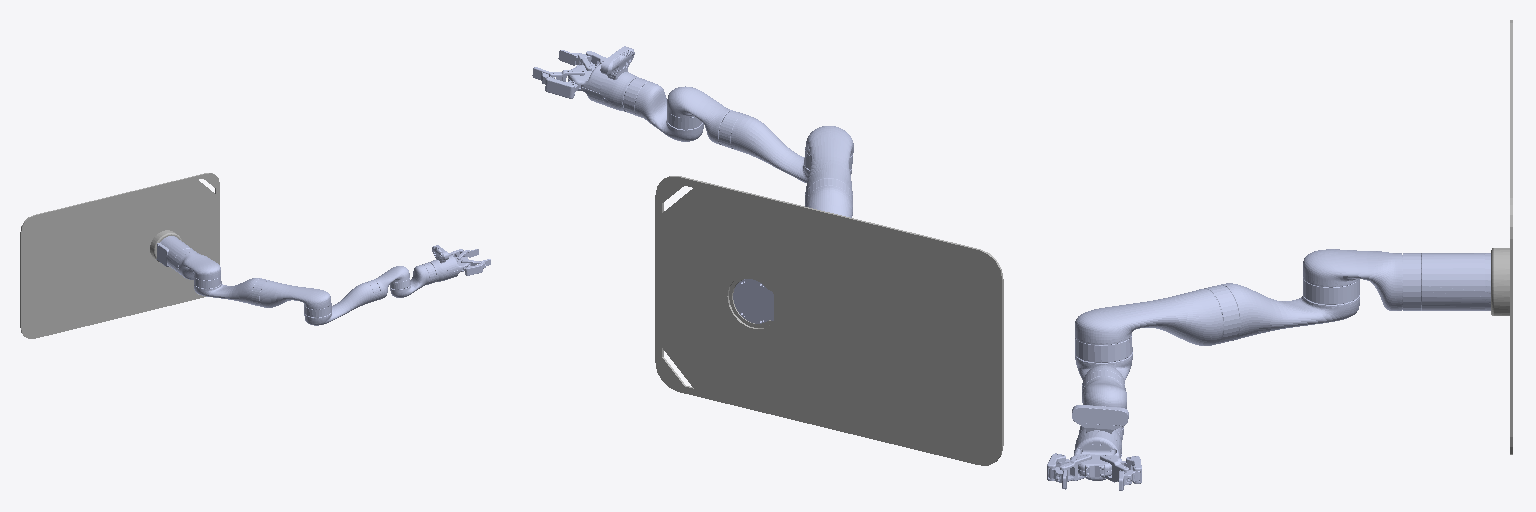
URDF robot description (Assembled moble robot fold5):
<?xml version="1.0" encoding="utf-8"?>
<!-- This URDF was automatically created by SolidWorks to URDF Exporter! Originally created by [author] ([email redacted]) 
     Commit Version: 1.6.0-1-g15f4949  Build Version: 1.6.7594.29634
     For more information, please see http://wiki.ros.org/sw_urdf_exporter -->
<robot
  name="Assembled moble robot fold5">
  <link
    name="base_link">
    <inertial>
      <origin
        xyz="-0.162274145504602 0.000732596929480435 0.001049653115971"
        rpy="0 0 0" />
      <mass
        value="0.0127857677607466" />
      <inertia
        ixx="3.63604584881777E-08"
        ixy="3.85340554226154E-08"
        ixz="7.28173735493206E-08"
        iyy="0.000309820066608132"
        iyz="8.24134140601345E-10"
        izz="0.000309785126309396" />
    </inertial>
    <visual>
      <origin
        xyz="0 0 0"
        rpy="0 0 0" />
      <geometry>
        <mesh
          filename="package://Assembled moble robot fold5/meshes/base_link.STL" />
      </geometry>
      <material
        name="">
        <color
          rgba="0.250980392156863 0.250980392156863 0.250980392156863 1" />
      </material>
    </visual>
    <collision>
      <origin
        xyz="0 0 0"
        rpy="0 0 0" />
      <geometry>
        <mesh
          filename="package://Assembled moble robot fold5/meshes/base_link.STL" />
      </geometry>
    </collision>
  </link>
  <link
    name="link_1">
    <inertial>
      <origin
        xyz="0.166453899070633 -0.00442014918653488 0.000187865619513702"
        rpy="0 0 0" />
      <mass
        value="1.71492523147387" />
      <inertia
        ixx="0.0280239638631239"
        ixy="-1.39067589091845E-09"
        ixz="-3.68523528134109E-06"
        iyy="0.105928474299439"
        iyz="-1.01563640135774E-08"
        izz="0.0779224059346215" />
    </inertial>
    <visual>
      <origin
        xyz="0 0 0"
        rpy="0 0 0" />
      <geometry>
        <mesh
          filename="package://Assembled moble robot fold5/meshes/link_1.STL" />
      </geometry>
      <material
        name="">
        <color
          rgba="0.752941176470588 0.752941176470588 0.752941176470588 1" />
      </material>
    </visual>
    <collision>
      <origin
        xyz="0 0 0"
        rpy="0 0 0" />
      <geometry>
        <mesh
          filename="package://Assembled moble robot fold5/meshes/link_1.STL" />
      </geometry>
    </collision>
  </link>
  <joint
    name="joint0"
    type="fixed">
    <origin
      xyz="0 -0.00768880580518062 0"
      rpy="0 7.37265581573058E-05 -3.14159265358979" />
    <parent
      link="base_link" />
    <child
      link="link_1" />
    <axis
      xyz="0 0 0" />
  </joint>
  <link
    name="link_2">
    <inertial>
      <origin
        xyz="-0.080650685224449 0.000129050261299473 0.000707970224130534"
        rpy="0 0 0" />
      <mass
        value="1.06209459731102" />
      <inertia
        ixx="0.0011530401909991"
        ixy="-9.159071968707E-07"
        ixz="2.81420199345777E-05"
        iyy="0.00277990779146556"
        iyz="-6.61222537775314E-07"
        izz="0.00275580362696308" />
    </inertial>
    <visual>
      <origin
        xyz="0 0 0"
        rpy="0 0 0" />
      <geometry>
        <mesh
          filename="package://Assembled moble robot fold5/meshes/link_2.STL" />
      </geometry>
      <material
        name="">
        <color
          rgba="0.792156862745098 0.819607843137255 0.933333333333333 1" />
      </material>
    </visual>
    <collision>
      <origin
        xyz="0 0 0"
        rpy="0 0 0" />
      <geometry>
        <mesh
          filename="package://Assembled moble robot fold5/meshes/link_2.STL" />
      </geometry>
    </collision>
  </link>
  <joint
    name="joint1"
    type="fixed">
    <origin
      xyz="0 0.156999999999959 0"
      rpy="1.60291569695239 0 1.57079632679249" />
    <parent
      link="link_1" />
    <child
      link="link_2" />
    <axis
      xyz="0 0 0" />
  </joint>
  <link
    name="link_3">
    <inertial>
      <origin
        xyz="-0.0437213084092657 -0.0286838263022234 0.025499511902183"
        rpy="0 0 0" />
      <mass
        value="0.205754188132838" />
      <inertia
        ixx="0.000357284886803391"
        ixy="6.30191940150228E-05"
        ixz="0.000106885180043856"
        iyy="0.000625270487788668"
        iyz="-3.58974275356206E-05"
        izz="0.000487918230941218" />
    </inertial>
    <visual>
      <origin
        xyz="0 0 0"
        rpy="0 0 0" />
      <geometry>
        <mesh
          filename="package://Assembled moble robot fold5/meshes/link_3.STL" />
      </geometry>
      <material
        name="">
        <color
          rgba="0.792156862745098 0.819607843137255 0.933333333333333 1" />
      </material>
    </visual>
    <collision>
      <origin
        xyz="0 0 0"
        rpy="0 0 0" />
      <geometry>
        <mesh
          filename="package://Assembled moble robot fold5/meshes/link_3.STL" />
      </geometry>
    </collision>
  </link>
  <joint
    name="joint2"
    type="fixed">
    <origin
      xyz="0.12600000017393 -0.0117500030687404 0"
      rpy="3.14155423380812 0.523598775756648 -1.91950921929983E-05" />
    <parent
      link="link_2" />
    <child
      link="link_3" />
    <axis
      xyz="0 0 0" />
  </joint>
  <link
    name="link_4">
    <inertial>
      <origin
        xyz="0.31939868145217 -0.0120398868852246 -0.000645497897677177"
        rpy="0 0 0" />
      <mass
        value="0.138787224303583" />
      <inertia
        ixx="0.000195185827770026"
        ixy="6.37094270107107E-05"
        ixz="3.50118796270783E-06"
        iyy="0.000505658179331667"
        iyz="1.8685317280877E-06"
        izz="0.000472150571337717" />
    </inertial>
    <visual>
      <origin
        xyz="0 0 0"
        rpy="0 0 0" />
      <geometry>
        <mesh
          filename="package://Assembled moble robot fold5/meshes/link_4.STL" />
      </geometry>
      <material
        name="">
        <color
          rgba="0.792156862745098 0.819607843137255 0.933333333333333 1" />
      </material>
    </visual>
    <collision>
      <origin
        xyz="0 0 0"
        rpy="0 0 0" />
      <geometry>
        <mesh
          filename="package://Assembled moble robot fold5/meshes/link_4.STL" />
      </geometry>
    </collision>
  </link>
  <joint
    name="joint3"
    type="fixed">
    <origin
      xyz="0.42075000000021 0 0"
      rpy="-0.0552070026950291 0 -3.14159265358979" />
    <parent
      link="link_3" />
    <child
      link="link_4" />
    <axis
      xyz="0 0 0" />
  </joint>
  <link
    name="link_5">
    <inertial>
      <origin
        xyz="-0.0435738257323355 -0.0245602359605788 0.0755001858050861"
        rpy="0 0 0" />
      <mass
        value="0.138067690761035" />
      <inertia
        ixx="0.000850739406520817"
        ixy="3.93773425581335E-05"
        ixz="0.000378342885940364"
        iyy="0.00110121649687143"
        iyz="-6.8232596702204E-05"
        izz="0.000413745894879402" />
    </inertial>
    <visual>
      <origin
        xyz="0 0 0"
        rpy="0 0 0" />
      <geometry>
        <mesh
          filename="package://Assembled moble robot fold5/meshes/link_5.STL" />
      </geometry>
      <material
        name="">
        <color
          rgba="0.792156862745098 0.819607843137255 0.933333333333333 1" />
      </material>
    </visual>
    <collision>
      <origin
        xyz="0 0 0"
        rpy="0 0 0" />
      <geometry>
        <mesh
          filename="package://Assembled moble robot fold5/meshes/link_5.STL" />
      </geometry>
    </collision>
  </link>
  <joint
    name="joint4"
    type="fixed">
    <origin
      xyz="0 -0.0127500000000259 0"
      rpy="0 -1.04719755119656 3.14159265358904" />
    <parent
      link="link_4" />
    <child
      link="link_5" />
    <axis
      xyz="0 0 0" />
  </joint>
  <link
    name="link_6">
    <inertial>
      <origin
        xyz="-0.130958968515251 -0.0146828317624834 -0.00202032373197181"
        rpy="0 0 0" />
      <mass
        value="0.109275296119279" />
      <inertia
        ixx="0.000112312807212263"
        ixy="-5.72177145485614E-05"
        ixz="-7.86398280461266E-06"
        iyy="0.000422758491009592"
        iyz="3.98298641580231E-06"
        izz="0.000394675961439423" />
    </inertial>
    <visual>
      <origin
        xyz="0 0 0"
        rpy="0 0 0" />
      <geometry>
        <mesh
          filename="package://Assembled moble robot fold5/meshes/link_6.STL" />
      </geometry>
      <material
        name="">
        <color
          rgba="0.792156862745098 0.819607843137255 0.933333333333333 1" />
      </material>
    </visual>
    <collision>
      <origin
        xyz="0 0 0"
        rpy="0 0 0" />
      <geometry>
        <mesh
          filename="package://Assembled moble robot fold5/meshes/link_6.STL" />
      </geometry>
    </collision>
  </link>
  <joint
    name="joint5"
    type="fixed">
    <origin
      xyz="0.210850101299815 0 0"
      rpy="3.00350169072279 0 0" />
    <parent
      link="link_5" />
    <child
      link="link_6" />
    <axis
      xyz="0 0 0" />
  </joint>
  <link
    name="link_7">
    <inertial>
      <origin
        xyz="0.139998190236277 -0.0138157218758969 0.00198650524802757"
        rpy="0 0 0" />
      <mass
        value="0.0607305544933731" />
      <inertia
        ixx="5.91291111671377E-05"
        ixy="-2.20481553337362E-05"
        ixz="-4.32084390380415E-06"
        iyy="0.000140530538524268"
        iyz="-1.20178609241877E-06"
        izz="0.000137919584632756" />
    </inertial>
    <visual>
      <origin
        xyz="0 0 0"
        rpy="0 0 0" />
      <geometry>
        <mesh
          filename="package://Assembled moble robot fold5/meshes/link_7.STL" />
      </geometry>
      <material
        name="">
        <color
          rgba="0.792156862745098 0.819607843137255 0.933333333333333 1" />
      </material>
    </visual>
    <collision>
      <origin
        xyz="0 0 0"
        rpy="0 0 0" />
      <geometry>
        <mesh
          filename="package://Assembled moble robot fold5/meshes/link_7.STL" />
      </geometry>
    </collision>
  </link>
  <joint
    name="joint6"
    type="fixed">
    <origin
      xyz="0.206846309427517 -0.000350101300061079 0.00563829121044956"
      rpy="0 0.054503224125792 -3.14159265358977" />
    <parent
      link="link_6" />
    <child
      link="link_7" />
    <axis
      xyz="0 0 0" />
  </joint>
  <link
    name="link_8">
    <inertial>
      <origin
        xyz="0.150244028841813 -0.0137055975853507 0.00254718528740672"
        rpy="0 0 0" />
      <mass
        value="0.0607327818914366" />
      <inertia
        ixx="6.25161675032532E-05"
        ixy="-3.01045947271107E-05"
        ixz="-4.86754617781282E-06"
        iyy="0.00015063712771063"
        iyz="-1.64106182512488E-06"
        izz="0.000151296162586479" />
    </inertial>
    <visual>
      <origin
        xyz="0 0 0"
        rpy="0 0 0" />
      <geometry>
        <mesh
          filename="package://Assembled moble robot fold5/meshes/link_8.STL" />
      </geometry>
      <material
        name="">
        <color
          rgba="0.792156862745098 0.819607843137255 0.933333333333333 1" />
      </material>
    </visual>
    <collision>
      <origin
        xyz="0 0 0"
        rpy="0 0 0" />
      <geometry>
        <mesh
          filename="package://Assembled moble robot fold5/meshes/link_8.STL" />
      </geometry>
    </collision>
  </link>
  <joint
    name="joint7"
    type="fixed">
    <origin
      xyz="0.20685 -0.0003501 0.0056383"
      rpy="0 0.054503 3.1416" />
    <parent
      link="link_7" />
    <child
      link="link_8" />
    <axis
      xyz="0 0 0" />
  </joint>
  <link
    name="link_9">
    <inertial>
      <origin
        xyz="-0.000349933979269856 0.0214262343227395 0.0402932211587096"
        rpy="0 0 0" />
      <mass
        value="0.0661611015091618" />
      <inertia
        ixx="3.44497221448383E-05"
        ixy="1.04104325252775E-07"
        ixz="3.24451065713826E-07"
        iyy="5.02597257180808E-05"
        iyz="1.74226266653188E-07"
        izz="6.20749541643363E-05" />
    </inertial>
    <visual>
      <origin
        xyz="0 0 0"
        rpy="0 0 0" />
      <geometry>
        <mesh
          filename="package://Assembled moble robot fold5/meshes/link_9.STL" />
      </geometry>
      <material
        name="">
        <color
          rgba="0.792156862745098 0.819607843137255 0.933333333333333 1" />
      </material>
    </visual>
    <collision>
      <origin
        xyz="0 0 0"
        rpy="0 0 0" />
      <geometry>
        <mesh
          filename="package://Assembled moble robot fold5/meshes/link_9.STL" />
      </geometry>
    </collision>
  </link>
  <joint
    name="joint8"
    type="fixed">
    <origin
      xyz="0.21176 -0.0003501 0.0059066"
      rpy="0.77569 1.4944 0.77715" />
    <parent
      link="link_8" />
    <child
      link="link_9" />
    <axis
      xyz="0 0 0" />
  </joint>
  <link
    name="link_10">
    <inertial>
      <origin
        xyz="9.47871827894353E-06 0.0435497551054141 -2.67729666829086E-05"
        rpy="0 0 0" />
      <mass
        value="0.299007856338707" />
      <inertia
        ixx="0.000192799825860682"
        ixy="-7.52321035615327E-09"
        ixz="-8.74384397612958E-09"
        iyy="0.000146386919186832"
        iyz="-1.13339041145091E-07"
        izz="0.000217155956158654" />
    </inertial>
    <visual>
      <origin
        xyz="0 0 0"
        rpy="0 0 0" />
      <geometry>
        <mesh
          filename="package://Assembled moble robot fold5/meshes/link_10.STL" />
      </geometry>
      <material
        name="">
        <color
          rgba="0.792156862745098 0.819607843137255 0.933333333333333 1" />
      </material>
    </visual>
    <collision>
      <origin
        xyz="0 0 0"
        rpy="0 0 0" />
      <geometry>
        <mesh
          filename="package://Assembled moble robot fold5/meshes/link_10.STL" />
      </geometry>
    </collision>
  </link>
  <joint
    name="joint9"
    type="fixed">
    <origin
      xyz="0 0 0.058051"
      rpy="1.5708 0 -3.0925" />
    <parent
      link="link_9" />
    <child
      link="link_10" />
    <axis
      xyz="0 0 0" />
  </joint>
</robot>

--- What the picture shows (computed from the rendered views, not written in the file) ---
Views: 3 orthographic renders of the robot side by side, from view 1: azimuth 30°, elevation 25°; view 2: azimuth 150°, elevation 25°; view 3: azimuth 270°, elevation 25°.
Model Assembled moble robot fold5 with 11 links and 10 joints (10 fixed), rooted at base_link, posed every joint at zero.
Links seen in each view (by area): view 1: link_1, link_5, link_6, link_3, link_4, link_10, link_2, link_8, link_7; view 2: link_1, link_6, link_5, link_10, link_7, link_8, link_9, link_2, link_4; view 3: link_5, link_2, link_3, link_4, link_10, link_1, link_9, link_7, link_6.
Link boxes in pixels (bbox=[...]): link_1: bbox=[20, 173, 219, 338]; link_5: bbox=[260, 280, 331, 317]; link_6: bbox=[304, 280, 380, 325]; link_3: bbox=[178, 252, 221, 288]; link_4: bbox=[194, 278, 267, 306]; link_10: bbox=[447, 249, 490, 278]; link_2: bbox=[156, 236, 195, 274]; link_8: bbox=[390, 262, 436, 297]; link_7: bbox=[374, 266, 410, 299]; link_1: bbox=[655, 176, 1003, 465]; link_6: bbox=[719, 111, 851, 182]; link_5: bbox=[804, 126, 853, 194]; link_10: bbox=[532, 50, 606, 104]; link_7: bbox=[667, 86, 732, 144]; link_8: bbox=[623, 78, 703, 141]; link_9: bbox=[600, 46, 638, 111]; link_2: bbox=[733, 279, 773, 323]; link_4: bbox=[805, 179, 852, 217]; link_5: bbox=[1075, 289, 1223, 362]; link_2: bbox=[1403, 253, 1490, 310]; link_3: bbox=[1303, 249, 1402, 310]; link_4: bbox=[1204, 283, 1359, 343]; link_10: bbox=[1047, 431, 1141, 490]; link_1: bbox=[1491, 20, 1512, 454]; link_9: bbox=[1072, 405, 1128, 456]; link_7: bbox=[1082, 376, 1126, 428]; link_6: bbox=[1075, 352, 1132, 391].
Bounding box of the posed robot: 1.39 × 0.7457 × 0.45 m (x, y, z).
10 mesh visuals loaded from 11 distinct referenced files (10 binary STL); not drawn: 1 (reference not matched to a file when rendering).